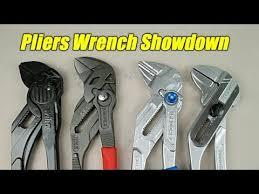pliers: (8, 60, 64, 169), (129, 58, 183, 169), (186, 63, 240, 168), (69, 55, 118, 169)
